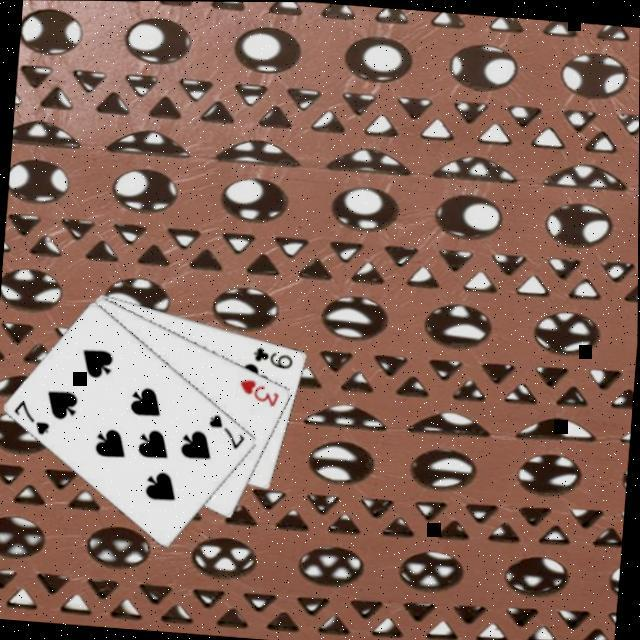3H: (234, 372, 282, 408)
7S: (202, 408, 249, 449), (7, 394, 53, 435)
9C: (248, 340, 296, 369)
